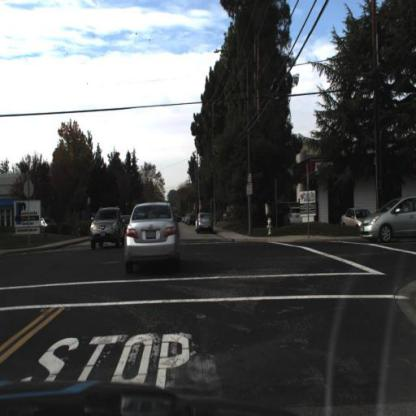car: (120, 199, 183, 285), (362, 185, 416, 258), (88, 196, 124, 255), (340, 197, 367, 241), (285, 197, 312, 232), (192, 207, 219, 238), (39, 210, 59, 239)
